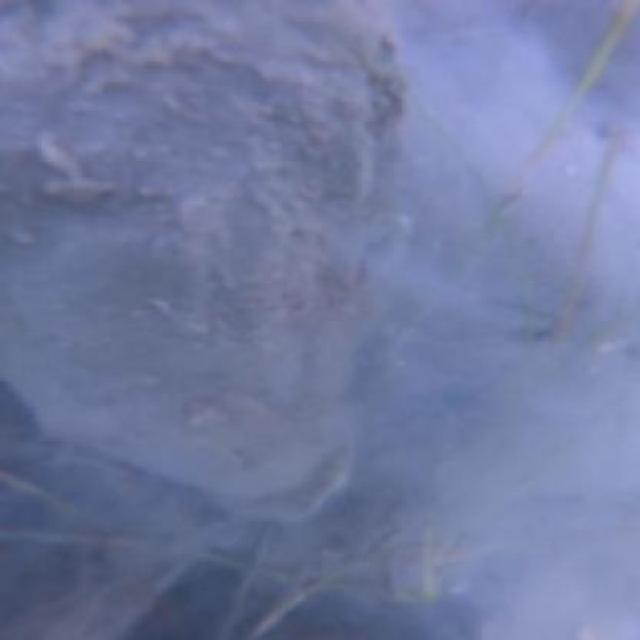Oyster-Closed: (0, 0, 418, 528)
